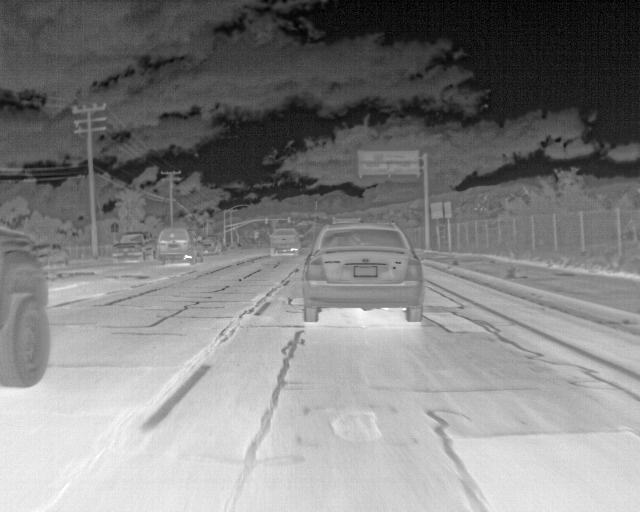car: (300, 221, 422, 322), (1, 216, 47, 389), (155, 226, 206, 261), (112, 228, 152, 259), (267, 227, 299, 253), (36, 241, 68, 265)
